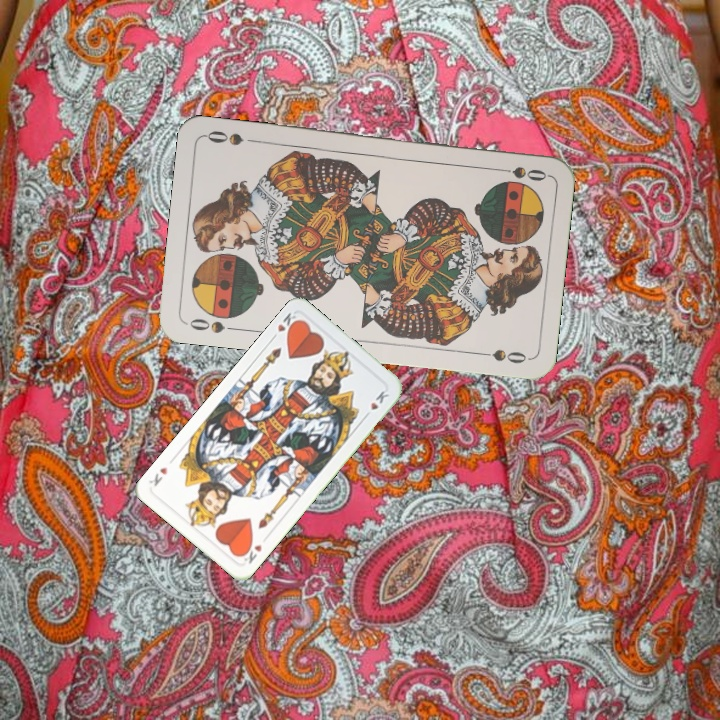HK: (267, 308, 302, 343), (237, 538, 264, 567)
SO: (490, 162, 549, 184), (182, 314, 241, 336)
